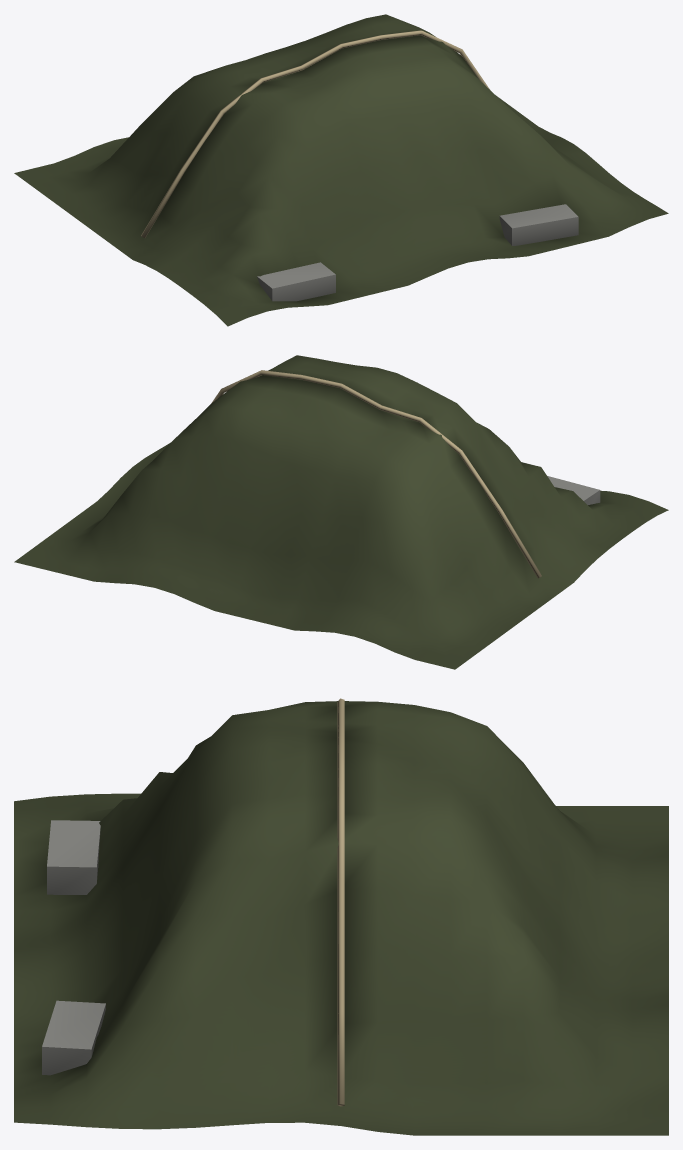
File: pike_tarp.glb
3 views of the same model, one above another, from view 1: azimuth 30°, elevation 25°; view 2: azimuth 150°, elevation 25°; view 3: azimuth 270°, elevation 25° (orthographic). The views are drawn at different scales.
Visible parts, largest first — view 1: tarp_LOD0; view 2: tarp_LOD0; view 3: tarp_LOD0.
Part boxes in pixels (x1,y1,x2,y2): tarp_LOD0: (14,14,668,326); tarp_LOD0: (14,355,668,669); tarp_LOD0: (14,698,668,1135).
Size of what is drawn, in the model's own units: 1.56 by 0.5276 by 1.31.
